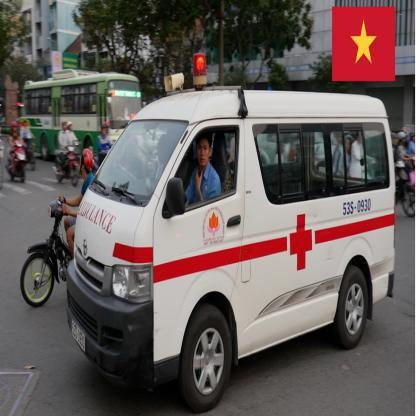Ambulance - v1 Ambulance last generate: (66, 89, 397, 404)
